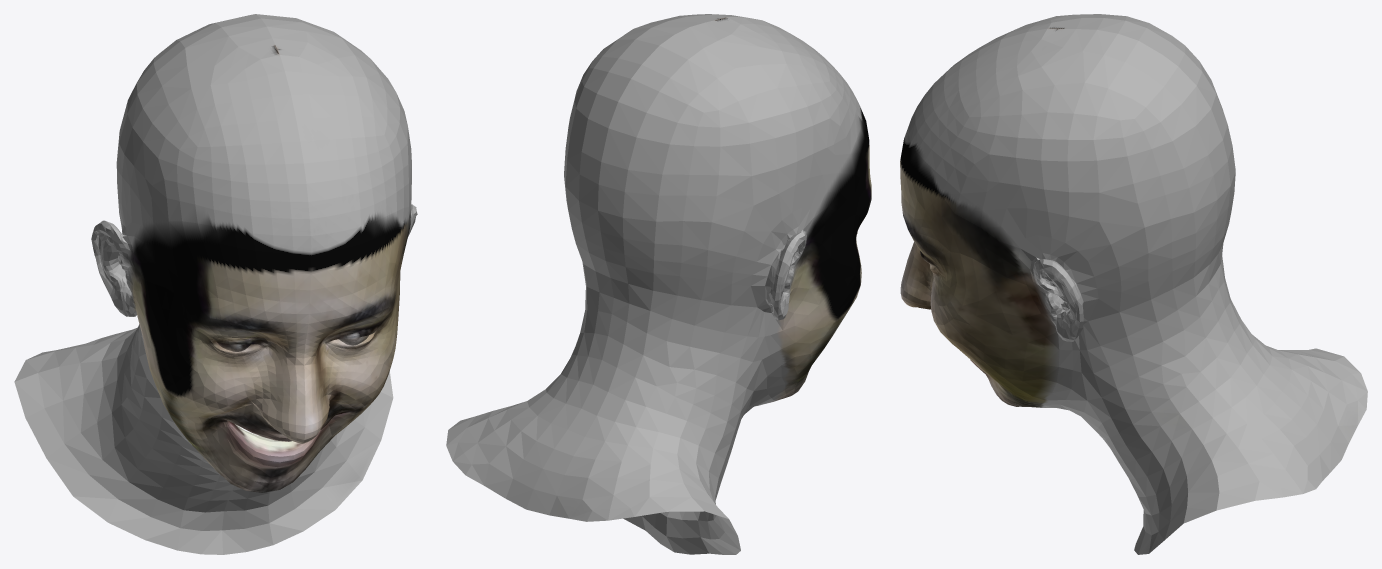
The model's file is ezgif-frame-013.obj.
3 views of the same model, side by side, from view 1: azimuth 30°, elevation 25°; view 2: azimuth 150°, elevation 25°; view 3: azimuth 270°, elevation 25° (orthographic). The views are drawn at different scales.
Size of the model in its own units: 0.2042 by 0.3243 by 0.2708.
Materials: 1 (1 with a texture image).
